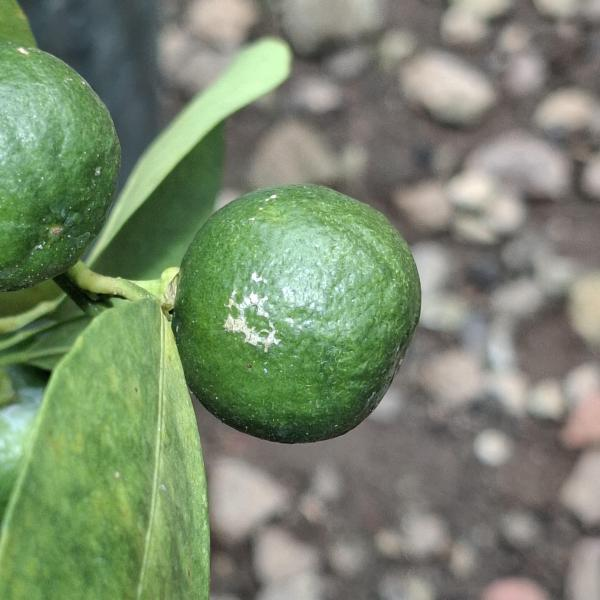Scab: (165, 183, 434, 452), (0, 37, 140, 300)
